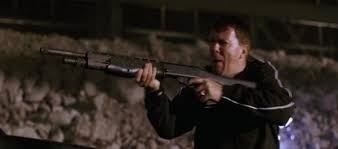pistol: (59, 43, 226, 94)
